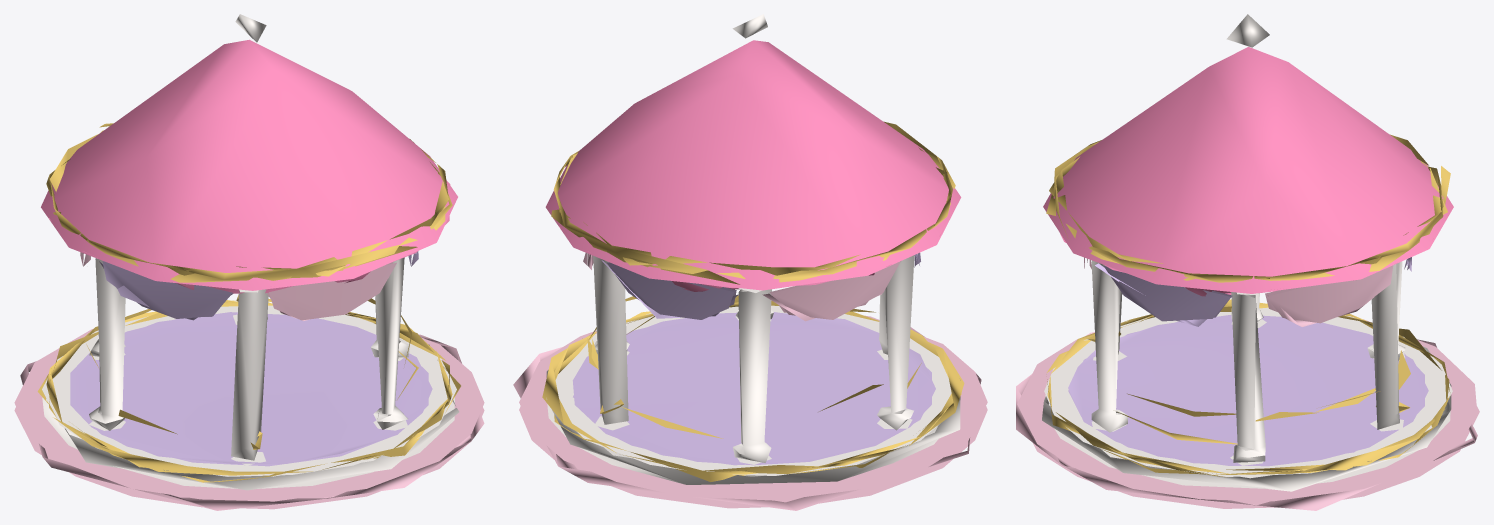
Rendered from lod_gazebo.glb.
The picture shows the model from 3 angles, left to right: view 1: azimuth 30°, elevation 25°; view 2: azimuth 150°, elevation 25°; view 3: azimuth 270°, elevation 25°; orthographic projection.
Parts seen in each view (by area): view 1: gazebo; view 2: gazebo; view 3: gazebo.
Boxes of the visible parts, box(x1,y1,x2,y2) form: gazebo: box(14, 14, 484, 510); gazebo: box(513, 14, 987, 510); gazebo: box(1016, 14, 1479, 510).
Size of the model in its own units: 8.02 by 7.25 by 7.76.
